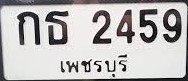txt01: (16, 10, 41, 46)
txt19: (44, 9, 70, 46)
